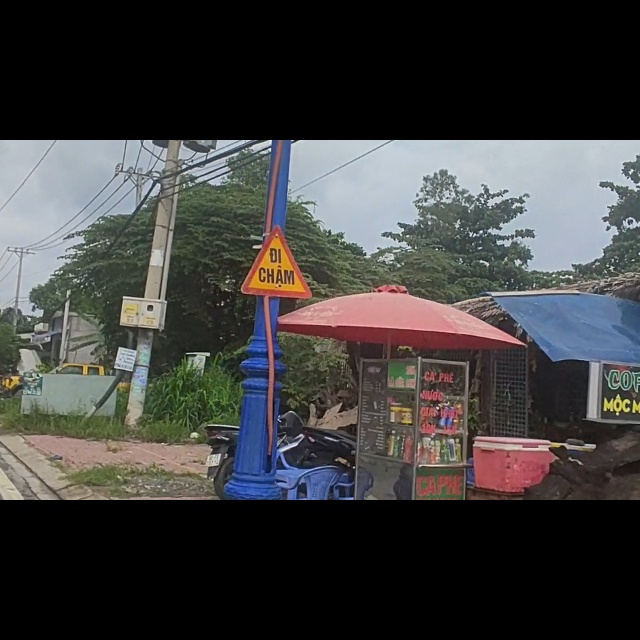bien_nguy_hiem: (241, 149, 313, 283)
